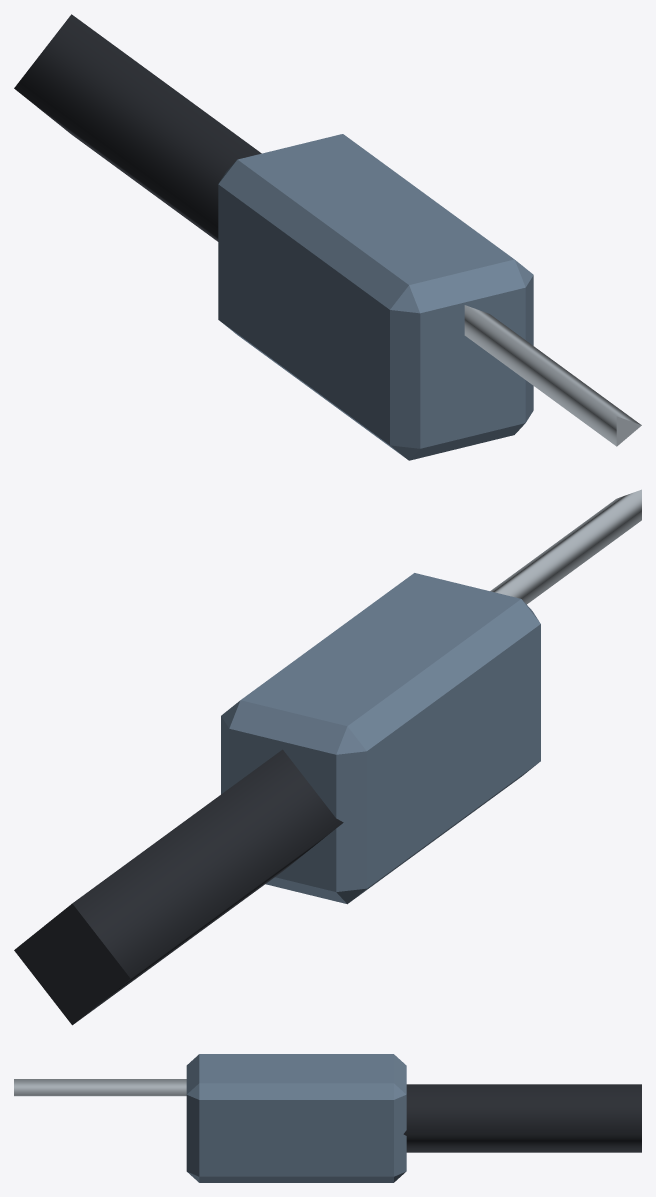
The picture shows the model from 3 angles, top to bottom: view 1: azimuth 30°, elevation 25°; view 2: azimuth 150°, elevation 25°; view 3: azimuth 270°, elevation 25°; orthographic projection. The views are drawn at different scales.
Parts seen in each view (by area): view 1: dweller_tool_multitool; view 2: dweller_tool_multitool; view 3: dweller_tool_multitool.
Part boxes in pixels (left/top/right/bottom): dweller_tool_multitool: left=14, top=14, right=641, bottom=460; dweller_tool_multitool: left=14, top=489, right=641, bottom=1025; dweller_tool_multitool: left=14, top=1054, right=641, bottom=1182.
Bounding box in the file's own units: 0.06 × 0.07 × 0.4.
